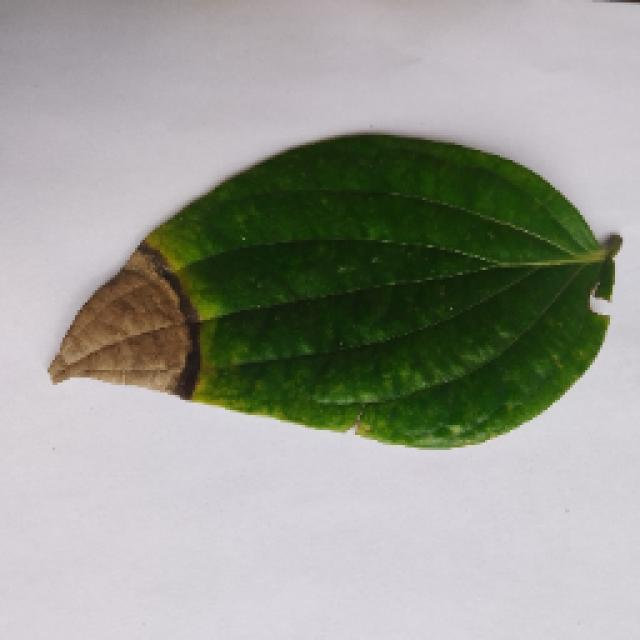footrot: (43, 130, 615, 448)
